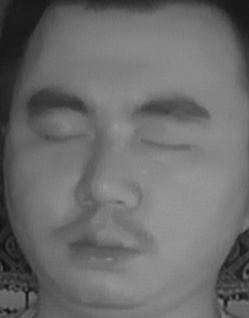blink: (34, 116, 89, 157), (143, 125, 194, 166)
mouth: (61, 218, 145, 270)
